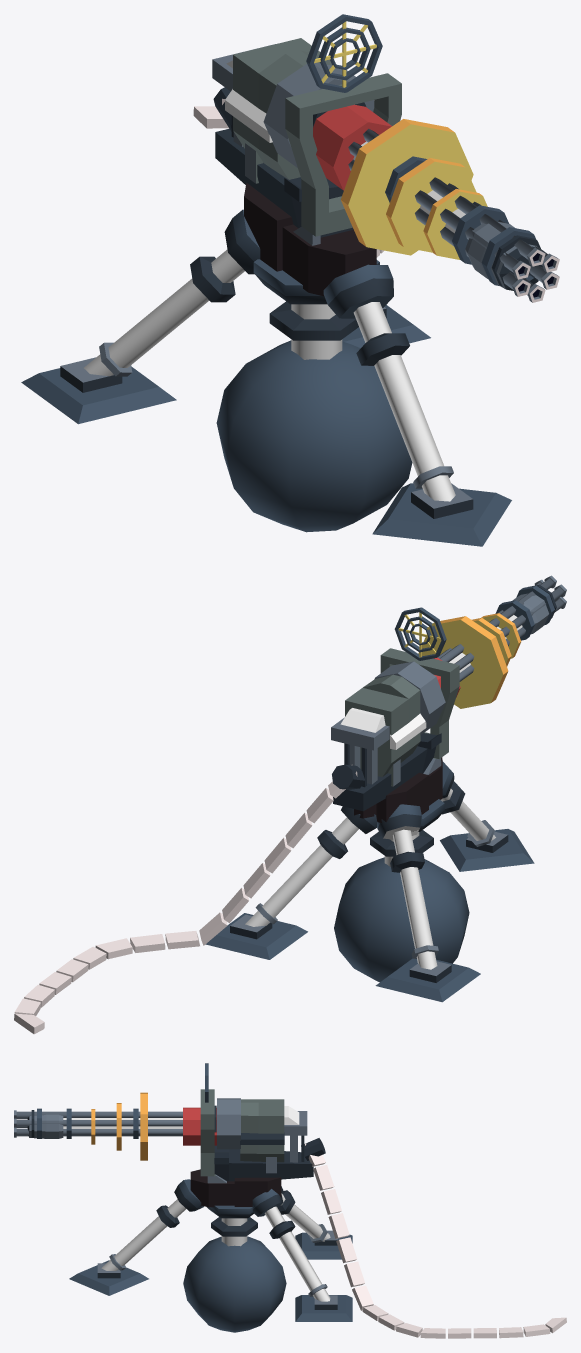
Rendered from Turret_FULL.fbx.
3 views of the same model, one above another, from view 1: azimuth 30°, elevation 25°; view 2: azimuth 150°, elevation 25°; view 3: azimuth 270°, elevation 25° (orthographic). The views are drawn at different scales.
Parts seen in each view (by area): view 1: Turret_Wheel, Turret_Legs, Turret_Main, Turret_Laser, Turret_Rotating_Barrels, Turret_Sight, Turret_Ammo_Mesh; view 2: Turret_Legs, Turret_Main, Turret_Wheel, Turret_Ammo_Mesh, Turret_Laser, Turret_Rotating_Barrels, Turret_Sight; view 3: Turret_Main, Turret_Legs, Turret_Wheel, Turret_Ammo_Mesh, Turret_Rotating_Barrels, Turret_Laser.
Boxes of the visible parts, left/top/right/bottom form: Turret_Wheel: left=216, top=259, right=412, bottom=532; Turret_Legs: left=21, top=209, right=511, bottom=546; Turret_Main: left=212, top=38, right=401, bottom=296; Turret_Laser: left=313, top=104, right=542, bottom=290; Turret_Rotating_Barrels: left=313, top=102, right=559, bottom=302; Turret_Sight: left=306, top=14, right=382, bottom=92; Turret_Ammo_Mesh: left=193, top=98, right=383, bottom=257; Turret_Legs: left=205, top=761, right=534, bottom=1002; Turret_Main: left=331, top=648, right=459, bottom=822; Turret_Wheel: left=334, top=799, right=469, bottom=982; Turret_Ammo_Mesh: left=14, top=764, right=357, bottom=1034; Turret_Laser: left=418, top=593, right=556, bottom=708; Turret_Rotating_Barrels: left=438, top=575, right=566, bottom=681; Turret_Sight: left=394, top=607, right=446, bottom=660; Turret_Main: left=190, top=1089, right=325, bottom=1207; Turret_Legs: left=69, top=1179, right=352, bottom=1321; Turret_Wheel: left=183, top=1205, right=286, bottom=1332; Turret_Ammo_Mesh: left=304, top=1143, right=566, bottom=1338; Turret_Rotating_Barrels: left=14, top=1105, right=216, bottom=1138; Turret_Laser: left=27, top=1092, right=216, bottom=1160.
Bounding box in the file's own units: 1627 × 1819 × 3455.
